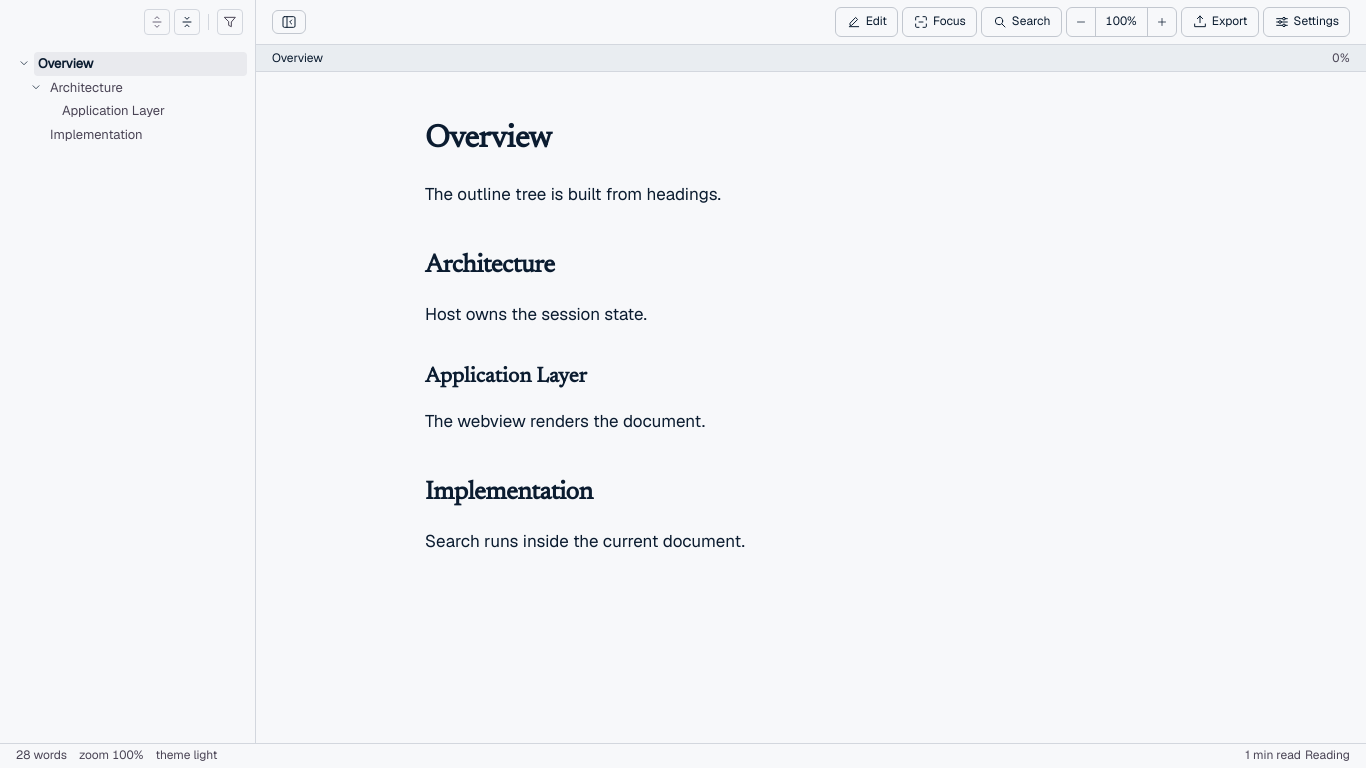
顶栏 / 弹层 / 状态条装配（M6） › 专注模式：顶栏段不渲染，快速条的展开大纲真的把左栏带回来
This screenshot has width=1366, height=768.
Later steps or results of the test are not shown.
Click the button with aria-label "Enter focus mode".
click(939, 22)  # box [902,7,977,37]
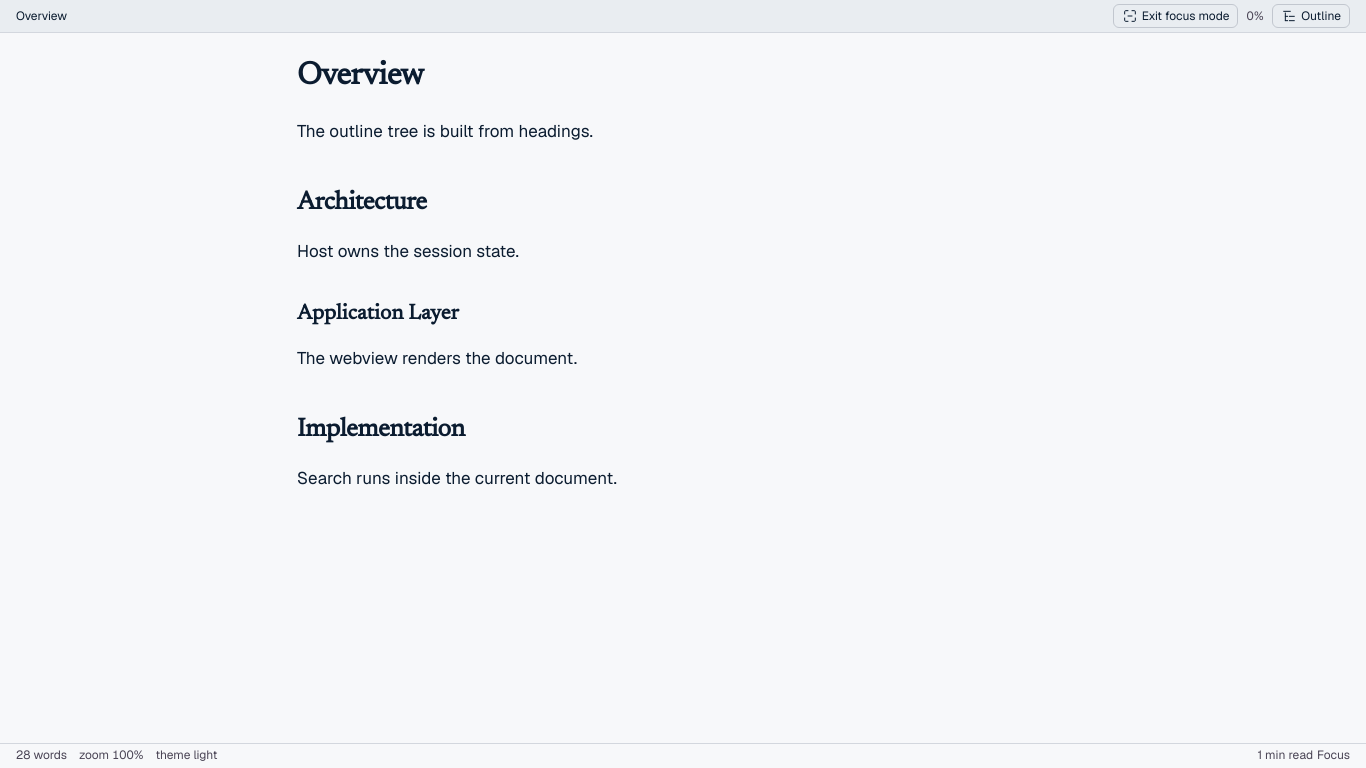
Expected: the element with class "readora-shell-nav" is gone
Click the button with aria-label "Expand outline".
click(1311, 16)  # box [1272,4,1350,28]
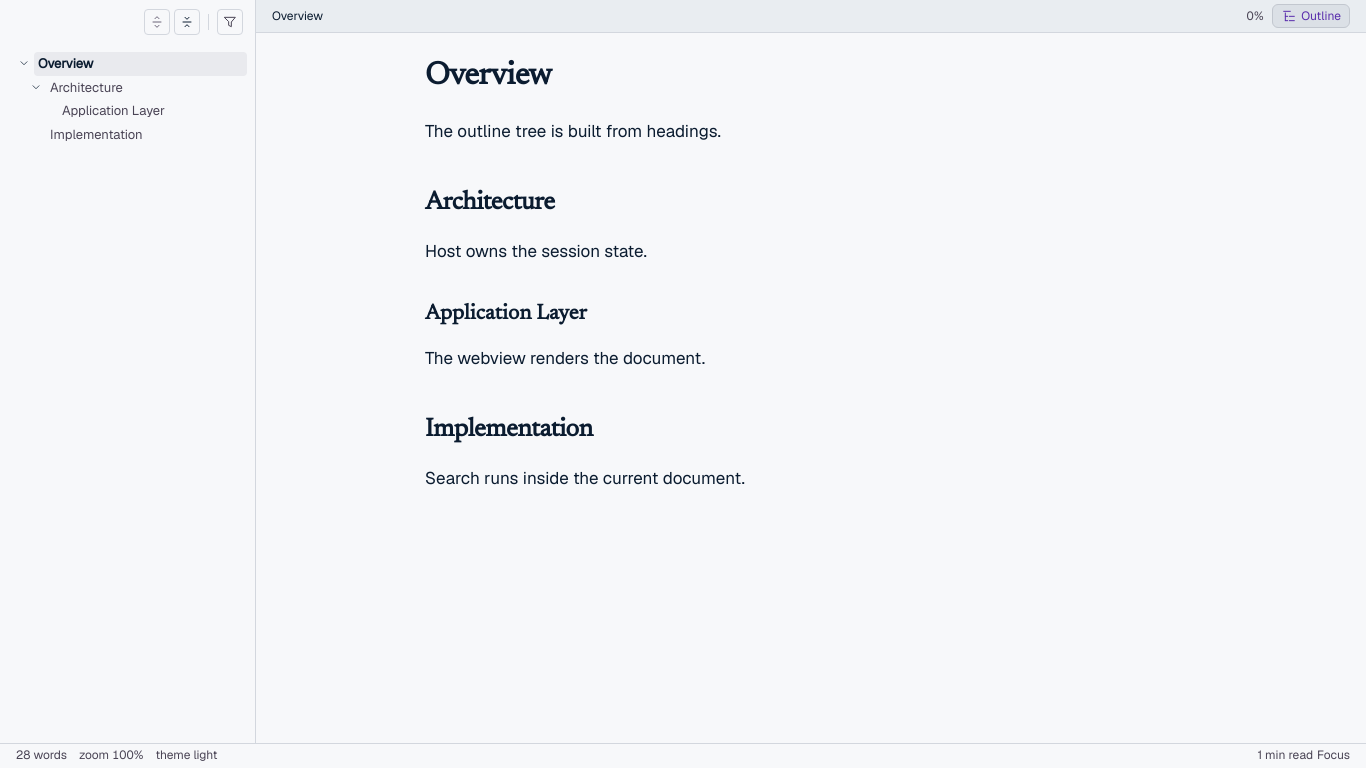
Expected: the element with class "readora-shell-nav" is shown, [0,0,256,743]
